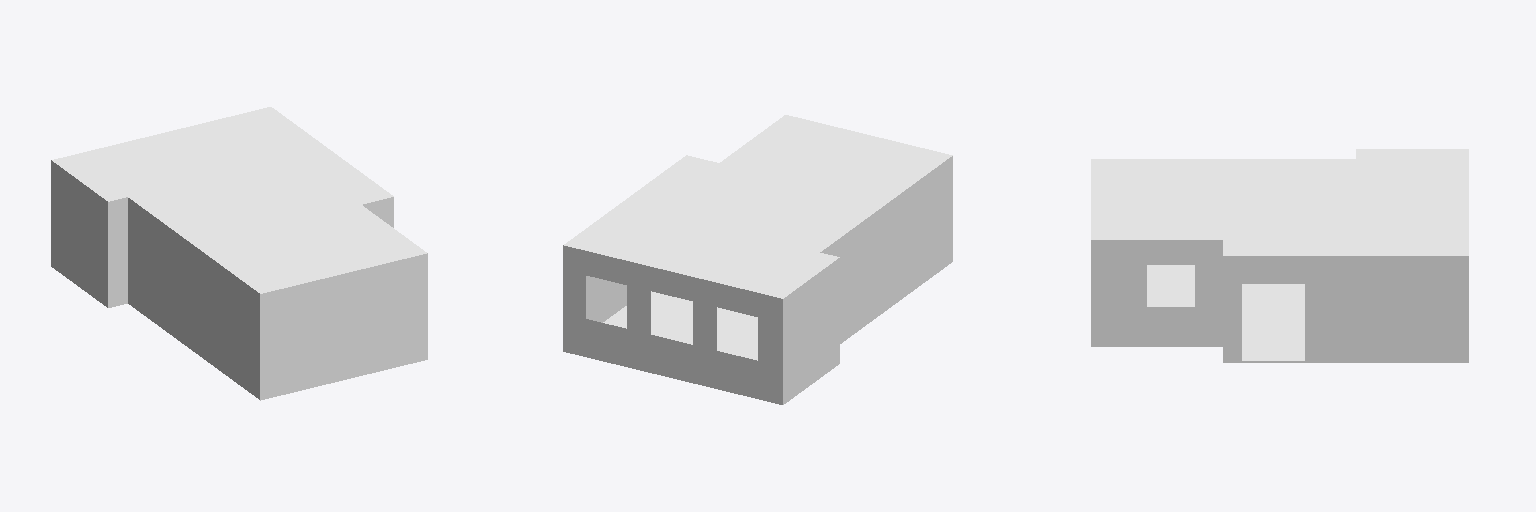
The model's file is shell.obj.
3 views of the same model, side by side, from view 1: azimuth 30°, elevation 25°; view 2: azimuth 150°, elevation 25°; view 3: azimuth 270°, elevation 25° (orthographic).
Visible parts, largest first — view 1: group62 Shell; view 2: group62 Shell, polySurface5 group62; view 3: group62 Shell.
Part boxes in pixels (left/top/right/bottom): group62 Shell: left=51, top=107, right=427, bottom=400; group62 Shell: left=563, top=115, right=952, bottom=404; polySurface5 group62: left=586, top=276, right=626, bottom=322; group62 Shell: left=1091, top=149, right=1468, bottom=362.
Size of the model in its own units: 670 by 310 by 1000.